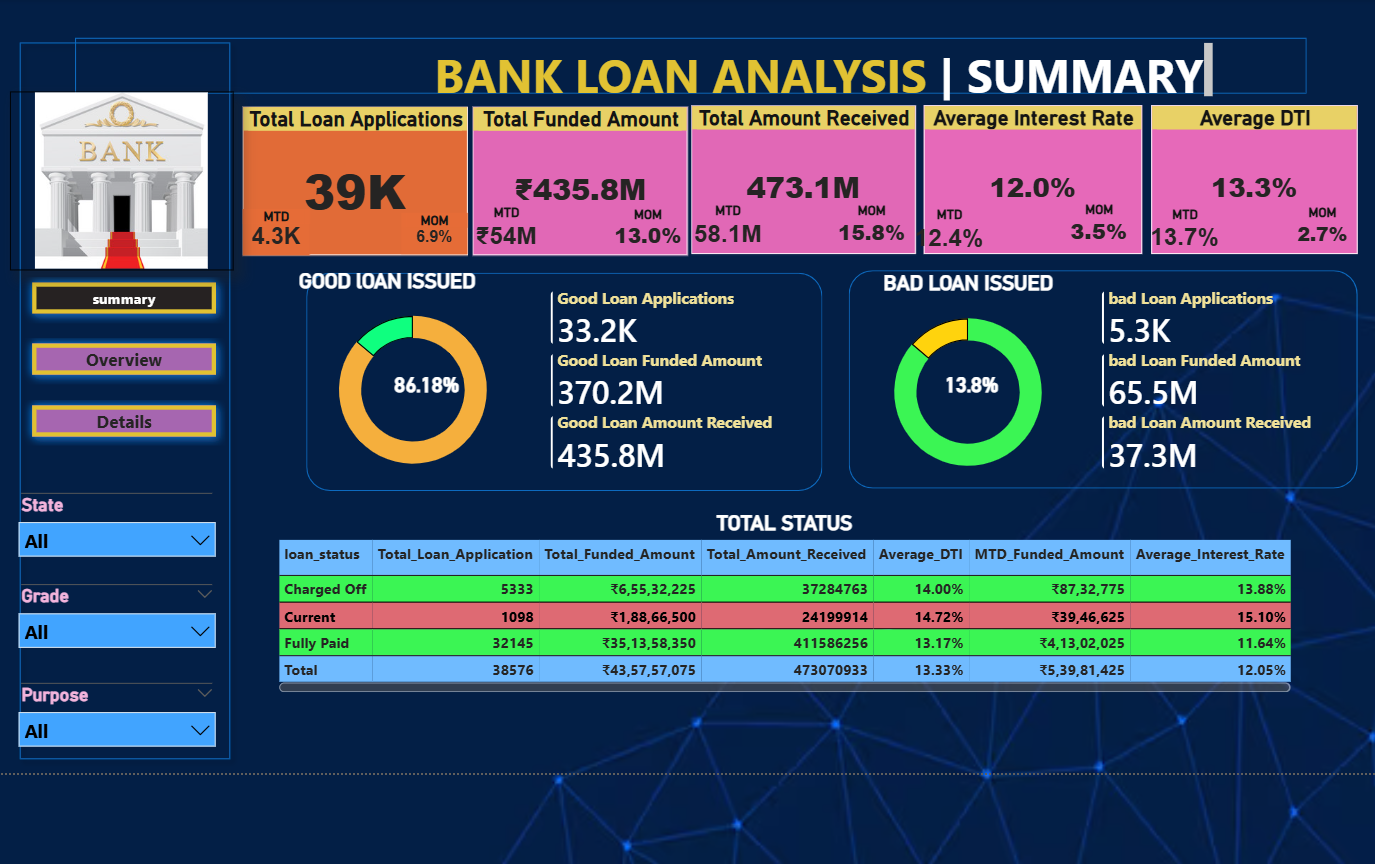

The dashboard page shown, as its layout file describes it:
{"tool":"powerbi","page":{"name":"summary","canvas":[1280,720],"ordinal":0},"visuals":[{"type":"shape","box":[70,35.7,1145.8,52.1],"z":0},{"type":"shape","box":[9.3,31.4,214,684.9],"z":1000},{"type":"textbox","box":[397.9,35.7,735.5,63.1],"z":2000},{"type":"card","title":"Total Loan Applications","fields":{"Values":["Measures_Table.Total_Loan_Application"]},"box":[225,100.2,209.9,138.6],"z":3000},{"type":"card","title":"MTD","fields":{"Values":["Measures_Table.MTD_Loan_App"]},"box":[225.6,195.3,62.8,43],"z":4000},{"type":"card","title":"MOM","fields":{"Values":["Measures_Table.MOM_Loan_Application"]},"box":[373.2,199,61.7,38.4],"z":5000},{"type":"card","title":"Total Funded Amount","fields":{"Values":["Measures_Table.Total_Funded_Amount"]},"box":[439.1,100.2,200.3,138.6],"z":6000},{"type":"card","title":"MTD","fields":{"Values":["Measures_Table.MTD_Funded_Amount"]},"box":[435,192.1,72.7,49.4],"z":7000},{"type":"card","title":"MOM","fields":{"Values":["Measures_Table.MOM_Total_Funed_amount"]},"box":[561.2,193.5,82.3,49.4],"z":8000},{"type":"card","title":"Average Interest Rate","fields":{"Values":["Measures_Table.Average_Interest_Rate"]},"box":[859,98.8,203.1,138.6],"z":9000},{"type":"card","title":"MTD","fields":{"Values":["Measures_Table.MTD_Average_Int_rate"]},"box":[841.2,193.5,85.1,49.4],"z":10000},{"type":"card","title":"Average DTI","fields":{"Values":["Measures_Table.Average_DTI"]},"box":[1070.9,98.8,191.9,138.4],"z":11000},{"type":"card","title":"MTD","fields":{"Values":["Measures_Table.MTD_Average_DTI"]},"box":[1062.8,193,79.1,48.8],"z":12000},{"type":"card","title":"MOM","fields":{"Values":["Measures_Table.MOM_Avg_DTI"]},"box":[1197.7,191.9,65.1,48.8],"z":13000},{"type":"card","title":"MOM","fields":{"Values":["Measures_Table.MOM_avg_int_rate"]},"box":[989.4,188,65.9,49.4],"z":14000},{"type":"shape","box":[285.4,255.2,480.3,203.1],"z":15000},{"type":"shape","box":[789,252.5,473.4,203.1],"z":16000},{"type":"donutChart","title":"GOOD lOAN ISSUED","fields":{"Category":["fusion financial_loan.Good loan vs bad loan"],"Y":["Measures_Table.Total_Loan_Application"]},"box":[273.3,251.2,222.1,203.5],"z":17000},{"type":"card","fields":{"Values":["Measures_Table.Good_loan_%"]},"box":[359.5,336.2,75.5,46.7],"z":18000},{"type":"cardVisual","fields":{"Data":["Measures_Table.Good Loan Applications","Measures_Table.Good Loan Funded Amount","Measures_Table.Good Loan Amount Received"]},"box":[495.4,255.2,248.4,200.3],"z":19000},{"type":"donutChart","title":"BAD LOAN ISSUED","fields":{"Y":["Measures_Table.Total_Loan_Application"],"Category":["fusion financial_loan.Good loan vs bad loan"]},"box":[789,253.9,222.3,203.1],"z":20000},{"type":"card","fields":{"Values":["Measures_Table.bad_loan_%"]},"box":[863.1,336.2,82.3,46.7],"z":21000},{"type":"cardVisual","fields":{"Data":["Measures_Table.bad Loan Applications","Measures_Table.bad Loan Funded Amount","Measures_Table.bad Loan Amount Received"]},"box":[1008.6,255.2,248.4,200.3],"z":22000},{"type":"tableEx","title":"TOTAL STATUS","fields":{"Values":["fusion financial_loan.loan_status","Measures_Table.Total_Loan_Application","Measures_Table.Total_Funded_Amount","Measures_Table.Total_Amount_Received","Measures_Table.Average_DTI","Measures_Table.MTD_Funded_Amount","Measures_Table.Average_Interest_Rate"]},"box":[253.5,476.7,952.3,173.3],"z":23000},{"type":"slicer","fields":{"Values":["fusion financial_loan.address_state"]},"box":[7,454.7,203.5,84.9],"z":24000},{"type":"slicer","fields":{"Values":["fusion financial_loan.grade"]},"box":[7,539.5,203.5,84.9],"z":25000},{"type":"slicer","fields":{"Values":["fusion financial_loan.purpose"]},"box":[7,631.4,203.5,84.9],"z":26000},{"type":"card","title":"Total Amount Received","fields":{"Values":["Measures_Table.Total_Amount_Received"]},"box":[643.6,98.8,208.6,138.6],"z":27000},{"type":"card","title":"MTD","fields":{"Values":["Measures_Table.MTD_Total_Amount_Receive"]},"box":[639.5,189.4,75.5,49.4],"z":28000},{"type":"card","title":"MOM","fields":{"Values":["Measures_Table.MOM_Total_Amount_Receive"]},"box":[769.8,189.4,82.3,49.4],"z":29000},{"type":"pageNavigator","box":[20.9,254.7,189.5,164],"z":30000},{"type":"image","box":[9.3,86,208.1,166.3],"z":31000}]}

Visuals, with their boxes on the page's 1280x720 design canvas (x1, y1, x2, y2). These are canvas units, not pixel positions in the 1375x864 screenshot, which may show the page scaled, cropped or inside an application window:
shape: bbox=[70, 36, 1216, 88]
shape: bbox=[9, 31, 223, 716]
textbox: bbox=[398, 36, 1133, 99]
"Total Loan Applications" card: bbox=[225, 100, 435, 239]
"MTD" card: bbox=[226, 195, 288, 238]
"MOM" card: bbox=[373, 199, 435, 237]
"Total Funded Amount" card: bbox=[439, 100, 639, 239]
"MTD" card: bbox=[435, 192, 508, 242]
"MOM" card: bbox=[561, 194, 644, 243]
"Average Interest Rate" card: bbox=[859, 99, 1062, 237]
"MTD" card: bbox=[841, 194, 926, 243]
"Average DTI" card: bbox=[1071, 99, 1263, 237]
"MTD" card: bbox=[1063, 193, 1142, 242]
"MOM" card: bbox=[1198, 192, 1263, 241]
"MOM" card: bbox=[989, 188, 1055, 237]
shape: bbox=[285, 255, 766, 458]
shape: bbox=[789, 252, 1262, 456]
"GOOD lOAN ISSUED" donutChart: bbox=[273, 251, 495, 455]
card - Measures_Table.Good_loan_%: bbox=[360, 336, 435, 383]
cardVisual - Measures_Table.Good Loan Applications x Measures_Table.Good Loan Funded Amount: bbox=[495, 255, 744, 456]
"BAD LOAN ISSUED" donutChart: bbox=[789, 254, 1011, 457]
card - Measures_Table.bad_loan_%: bbox=[863, 336, 945, 383]
cardVisual - Measures_Table.bad Loan Applications x Measures_Table.bad Loan Funded Amount: bbox=[1009, 255, 1257, 456]
"TOTAL STATUS" tableEx: bbox=[254, 477, 1206, 650]
slicer - fusion financial_loan.address_state: bbox=[7, 455, 210, 540]
slicer - fusion financial_loan.grade: bbox=[7, 540, 210, 624]
slicer - fusion financial_loan.purpose: bbox=[7, 631, 210, 716]
"Total Amount Received" card: bbox=[644, 99, 852, 237]
"MTD" card: bbox=[640, 189, 715, 239]
"MOM" card: bbox=[770, 189, 852, 239]
pageNavigator: bbox=[21, 255, 210, 419]
image: bbox=[9, 86, 217, 252]
